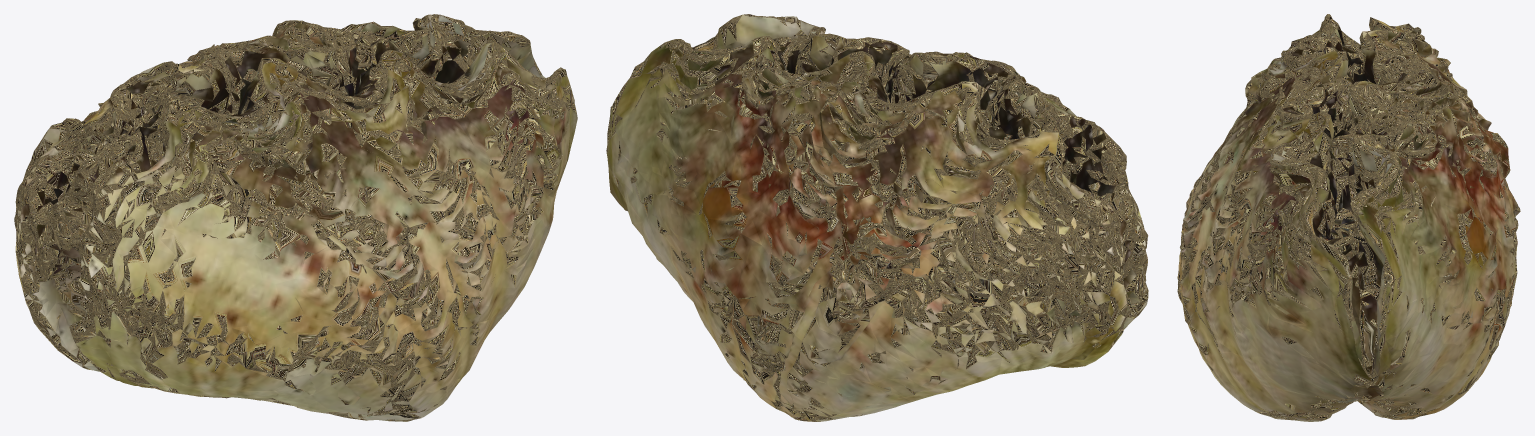
File: clam.glb
3 renders of one model, left to right at view 1: azimuth 30°, elevation 25°; view 2: azimuth 150°, elevation 25°; view 3: azimuth 270°, elevation 25°, orthographic. The views are drawn at different scales.
Parts seen in each view (by area): view 1: Object_6; view 2: Object_6; view 3: Object_6.
Part boxes in pixels (x1,y1,x2,y2): Object_6: (14, 14, 577, 421); Object_6: (606, 14, 1148, 421); Object_6: (1177, 14, 1520, 421).
Size of the model in its own units: 1 by 0.643 by 0.616.
Materials: 1 (1 with a texture image).
